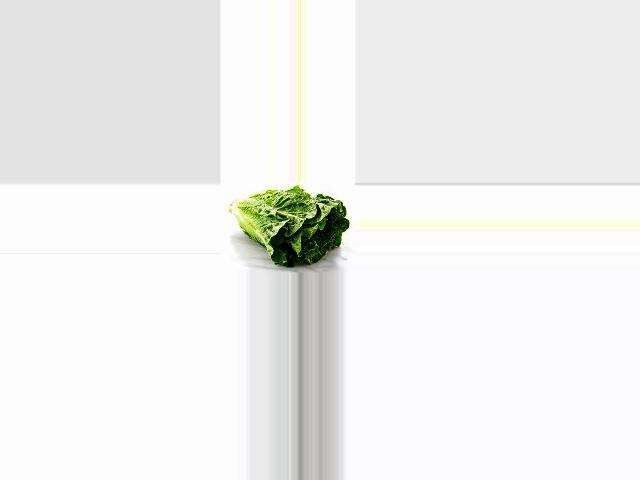lettuce: (231, 184, 347, 268)
